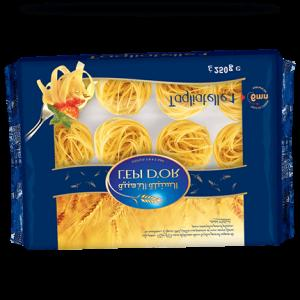Tagliatelle: (6, 49, 295, 250)
